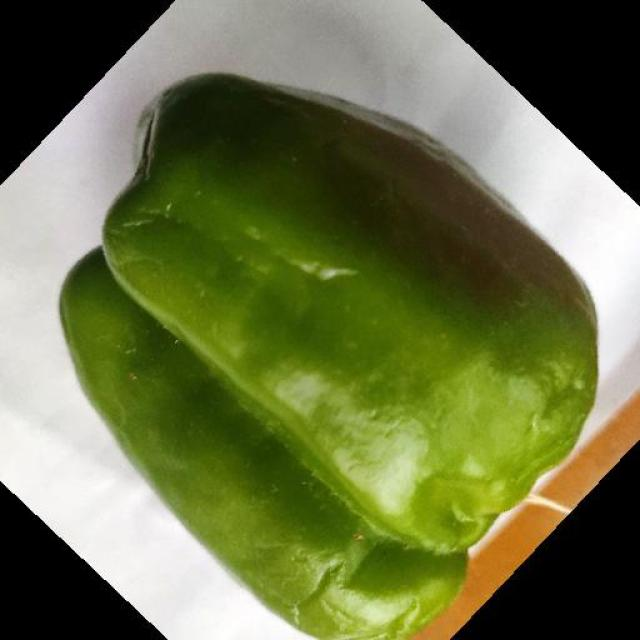Stale_Capsicum: (100, 78, 517, 610)
